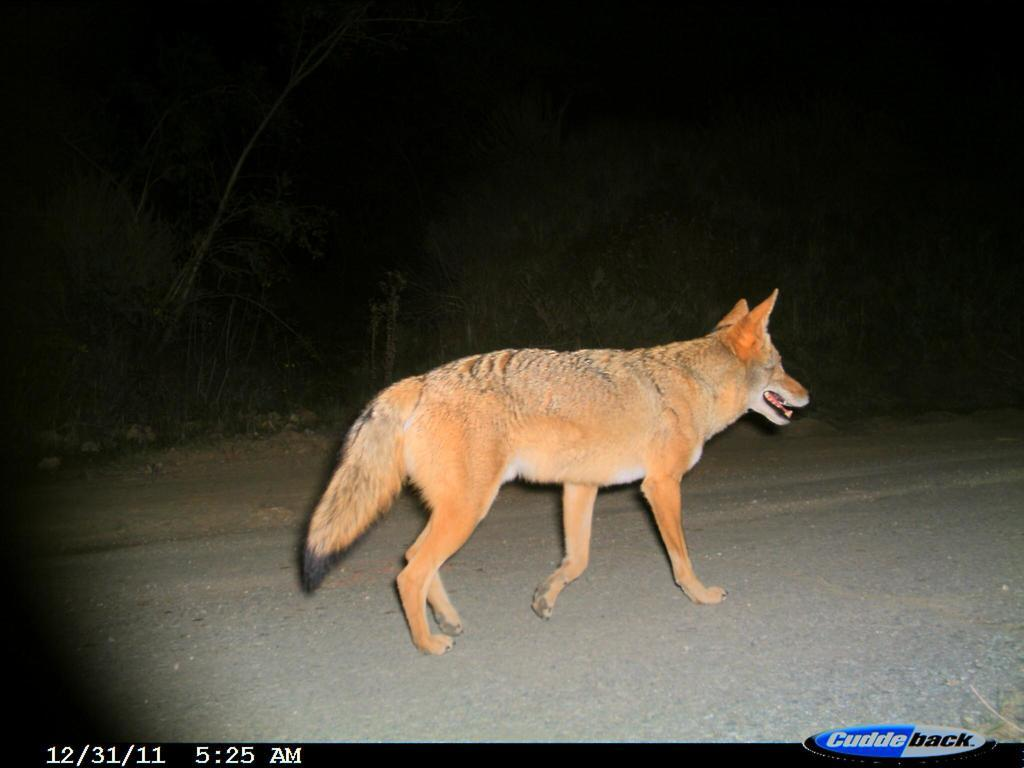coyote: (281, 262, 824, 661)
